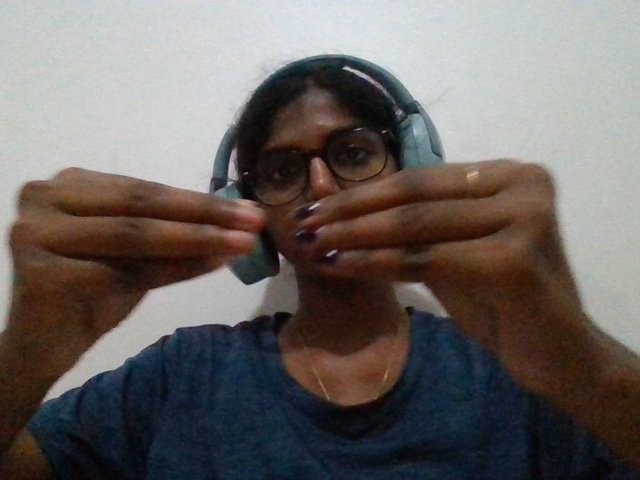More: (3, 150, 625, 440)
